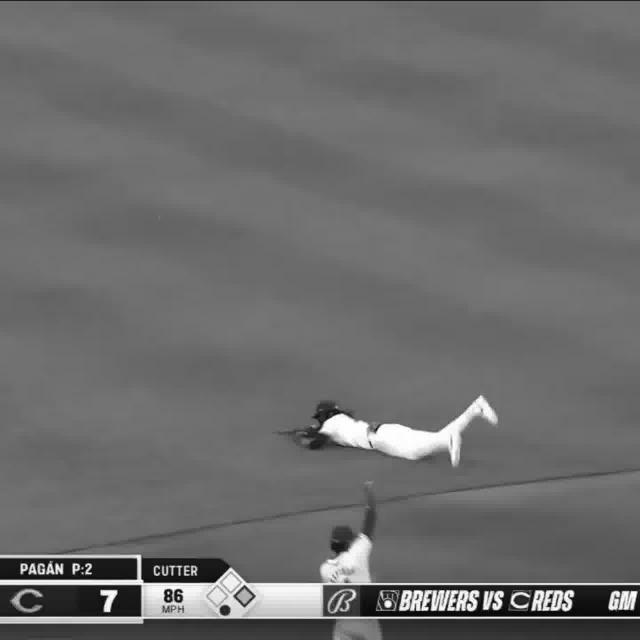baseball_glove: (275, 421, 315, 446)
shoe: (475, 396, 504, 427), (446, 429, 467, 466)
